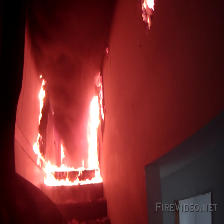fire_h: (33, 135, 87, 186), (88, 73, 105, 183), (38, 75, 46, 125), (141, 1, 154, 30)
fire_l: (106, 46, 109, 53)
